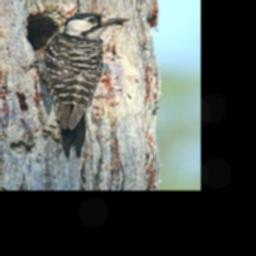Woodpecker: (20, 11, 132, 163)
